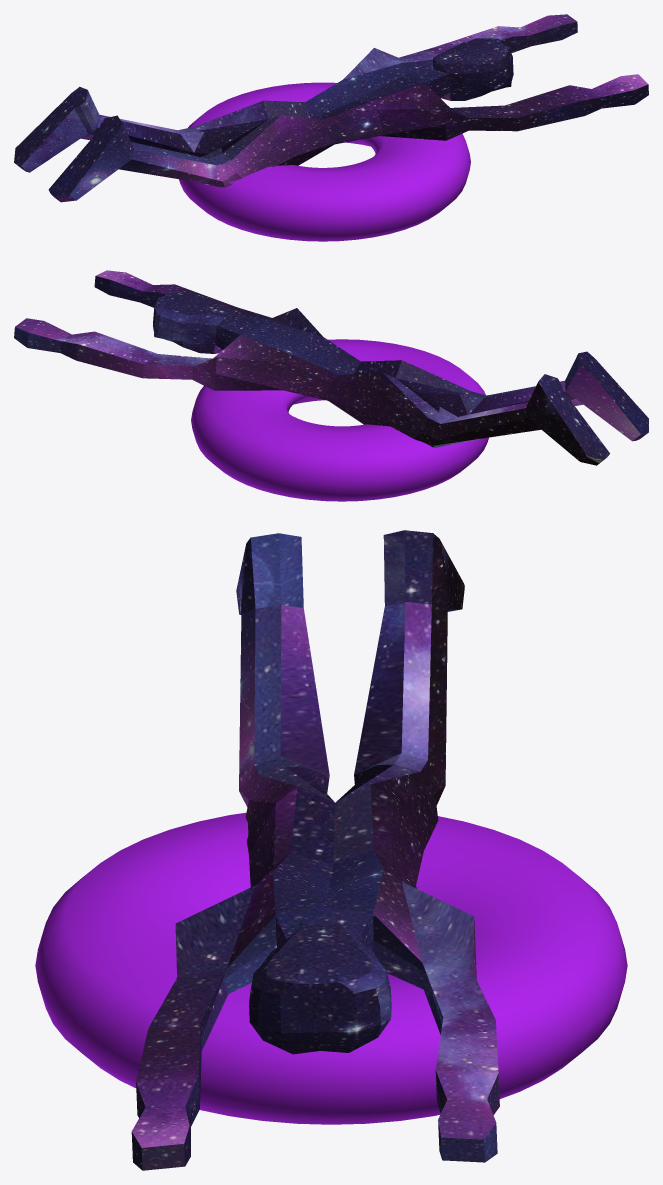
The model's file is NebulaSkinFlytGubbe.fbx.
The picture shows the model from 3 angles, top to bottom: view 1: azimuth 30°, elevation 25°; view 2: azimuth 150°, elevation 25°; view 3: azimuth 270°, elevation 25°; orthographic projection. The views are drawn at different scales.
Visible parts, largest first — view 1: Cube.001; view 2: Cube.001; view 3: Cube.001.
Part boxes in pixels (x1,y1,x2,y2): Cube.001: (14, 14, 648, 241); Cube.001: (14, 270, 648, 501); Cube.001: (35, 530, 627, 1170).
Size of the model in its own units: 1734 by 404 by 782.
